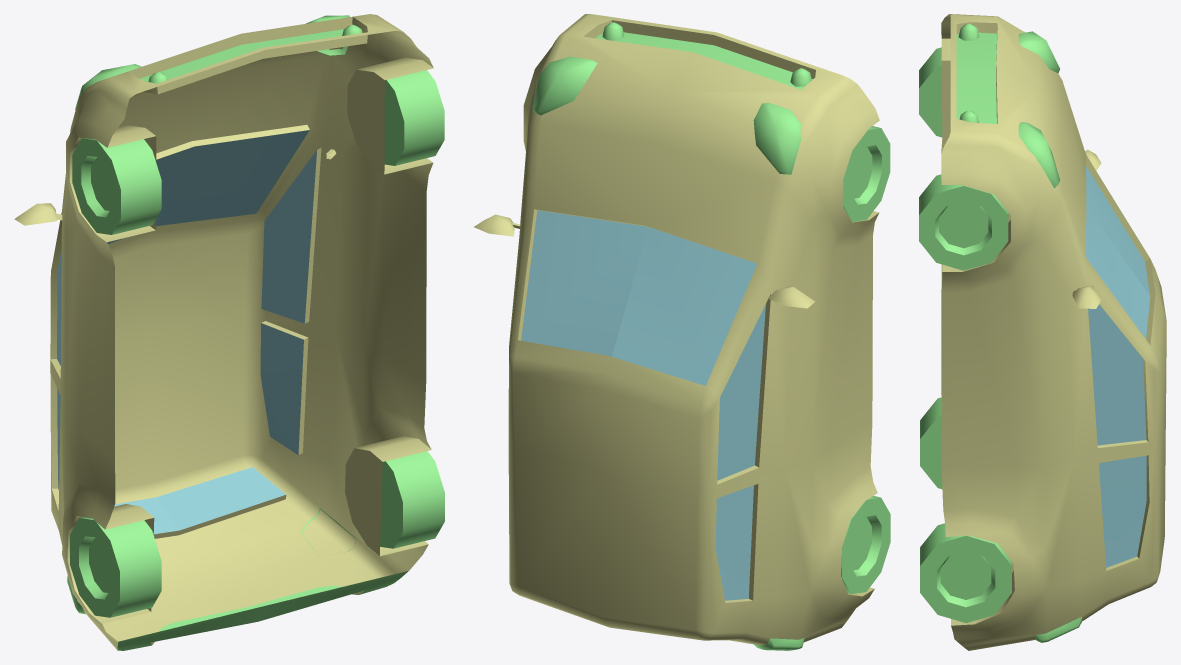
Rendered from Obstacles_car.fbx.
3 views of the same model, side by side, from view 1: azimuth 30°, elevation 25°; view 2: azimuth 150°, elevation 25°; view 3: azimuth 270°, elevation 25° (orthographic). The views are drawn at different scales.
Visible parts, largest first — view 1: Car; view 2: Car; view 3: Car.
Boxes of the visible parts, <box> form: Car: <box>14,14,444,650</box>; Car: <box>474,14,890,650</box>; Car: <box>919,14,1166,650</box>.
Bounding box in the file's own units: 955 × 1536 × 647.
